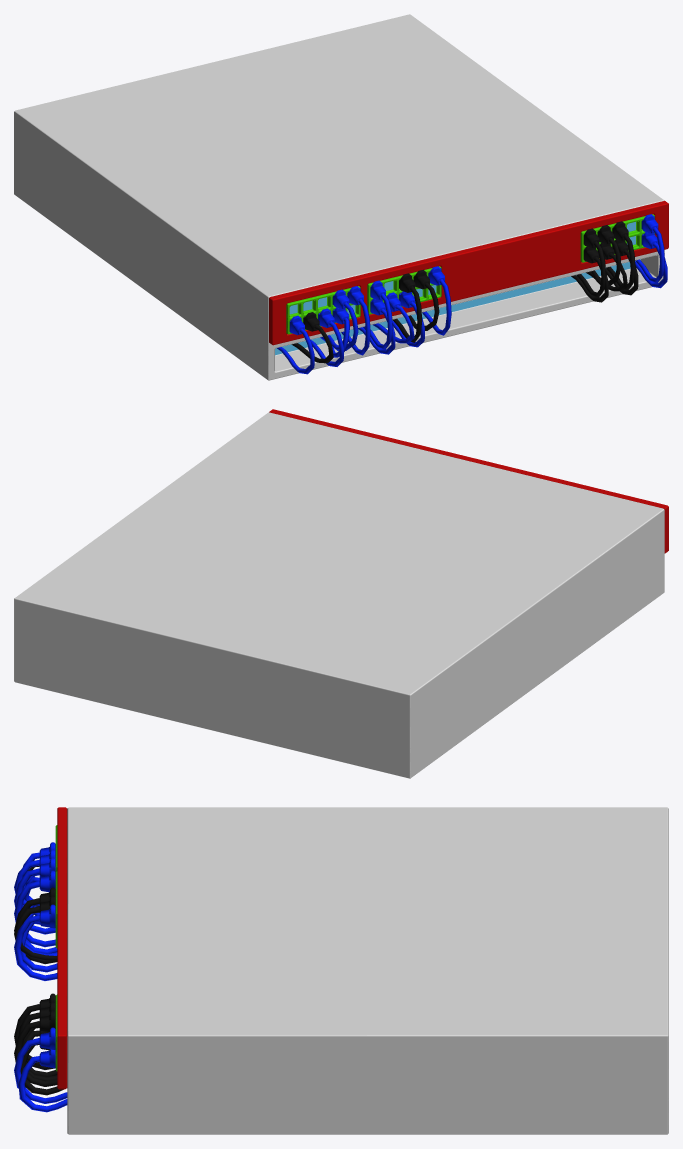
The model's file is ServerBay05.fbx.
3 views of the same model, one above another, from view 1: azimuth 30°, elevation 25°; view 2: azimuth 150°, elevation 25°; view 3: azimuth 270°, elevation 25° (orthographic). The views are drawn at different scales.
Visible parts, largest first — view 1: ServerBay05; view 2: ServerBay05; view 3: ServerBay05.
Boxes of the visible parts, bbox=[...] form: ServerBay05: bbox=[14, 14, 668, 380]; ServerBay05: bbox=[14, 409, 668, 778]; ServerBay05: bbox=[14, 807, 668, 1134].
Bounding box in the file's own units: 67.5 × 13.75 × 81.63.
